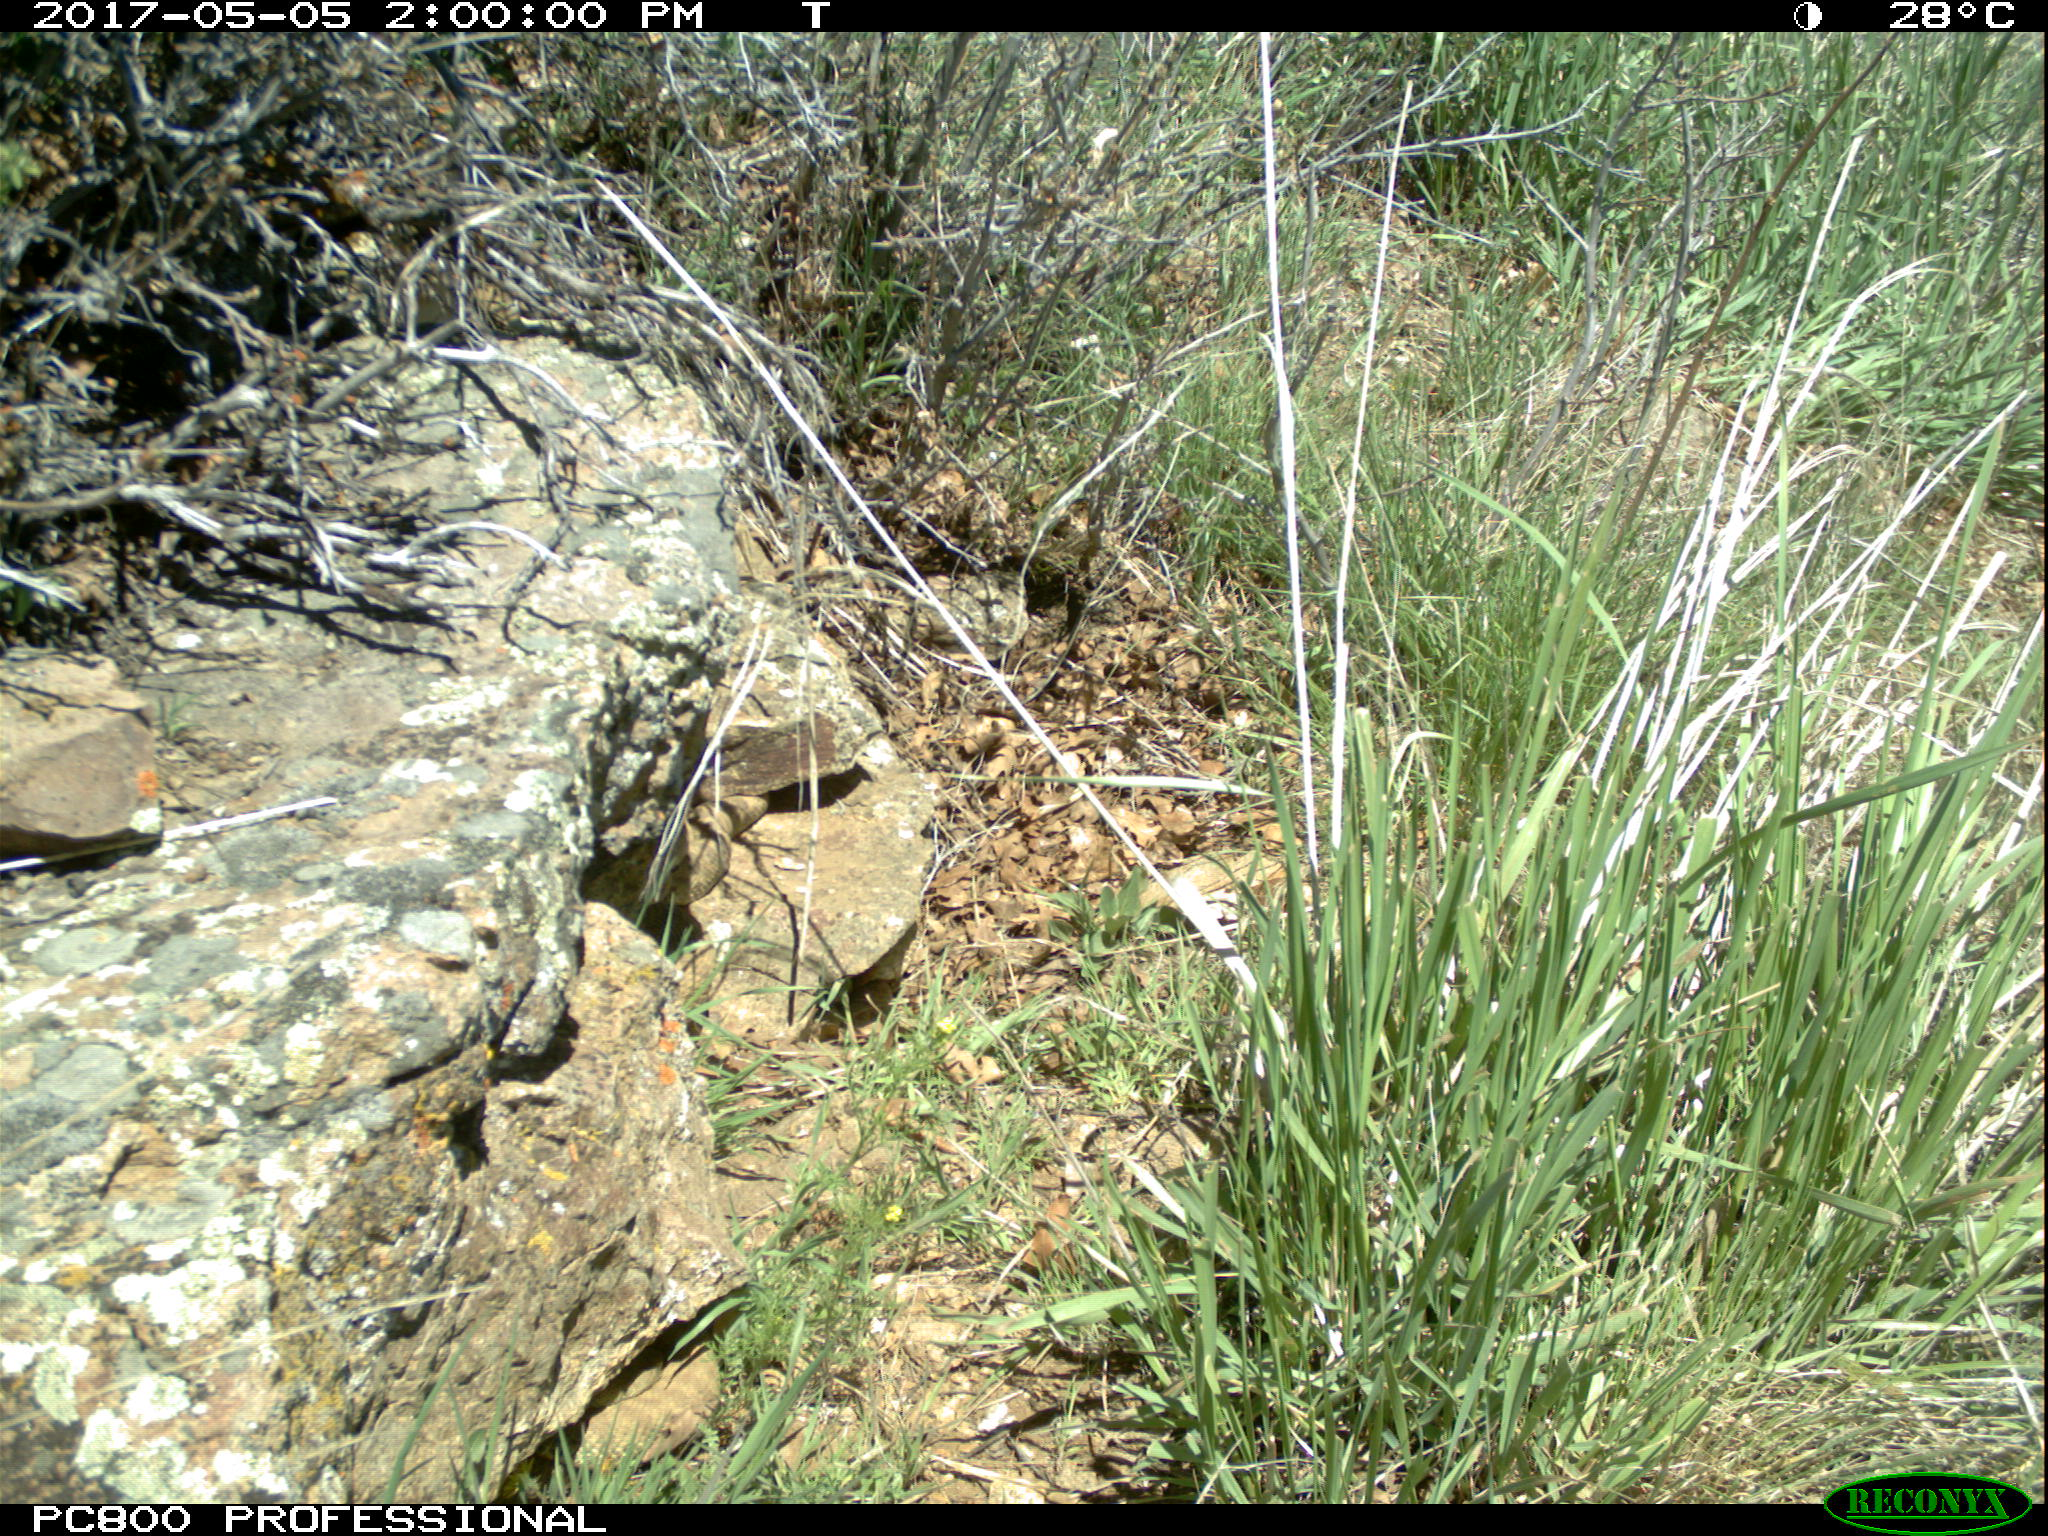snake: (572, 1359, 753, 1465), (653, 784, 776, 908)
